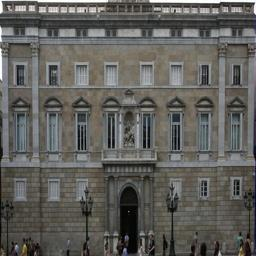building: (0, 0, 256, 246)
